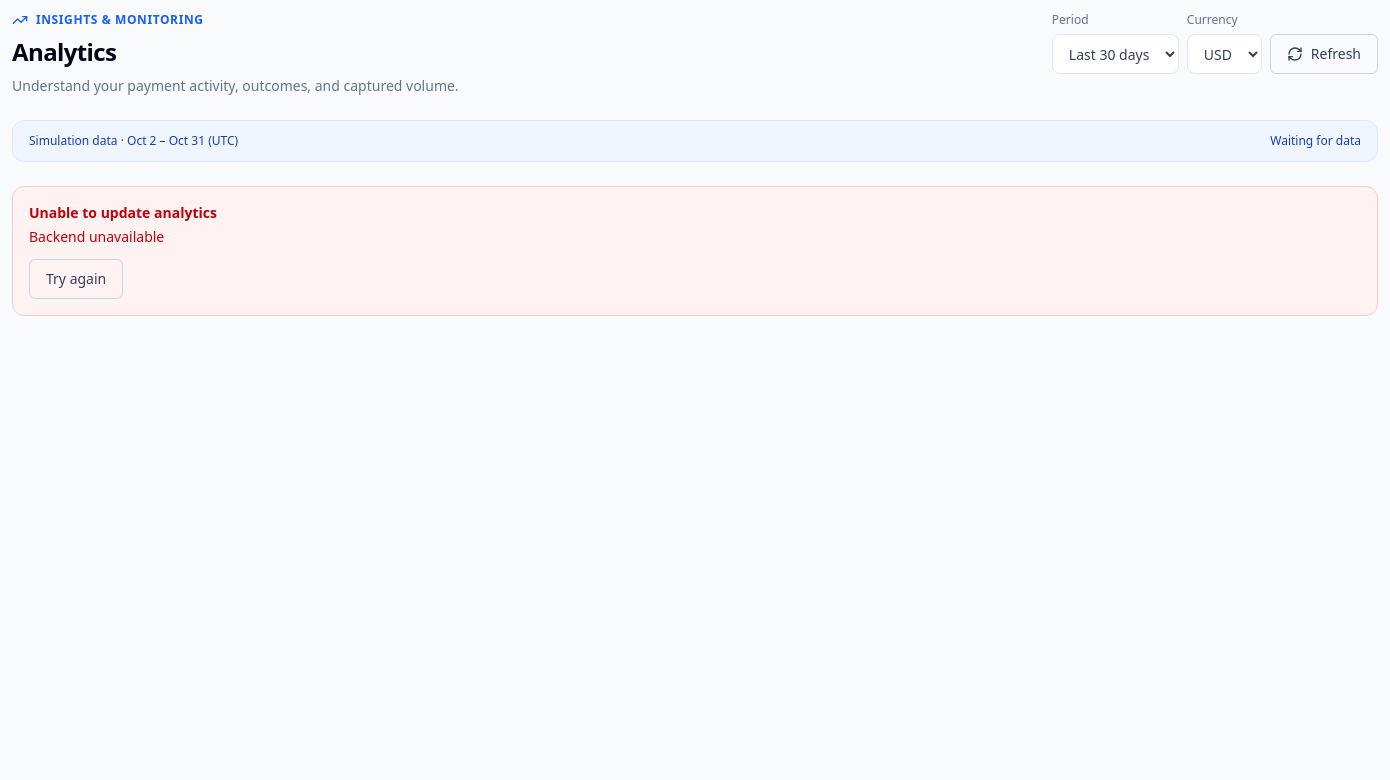
Test: Analytics page › offers retry after an error and an actionable empty state
Expected: the message shows "Backend unavailable", top-left (29, 227), bottom-right (164, 246)
Expected: the text "Gross captured" is not shown
Click the button "Try again" at (76, 279), box top-left (29, 259), bottom-right (123, 299)
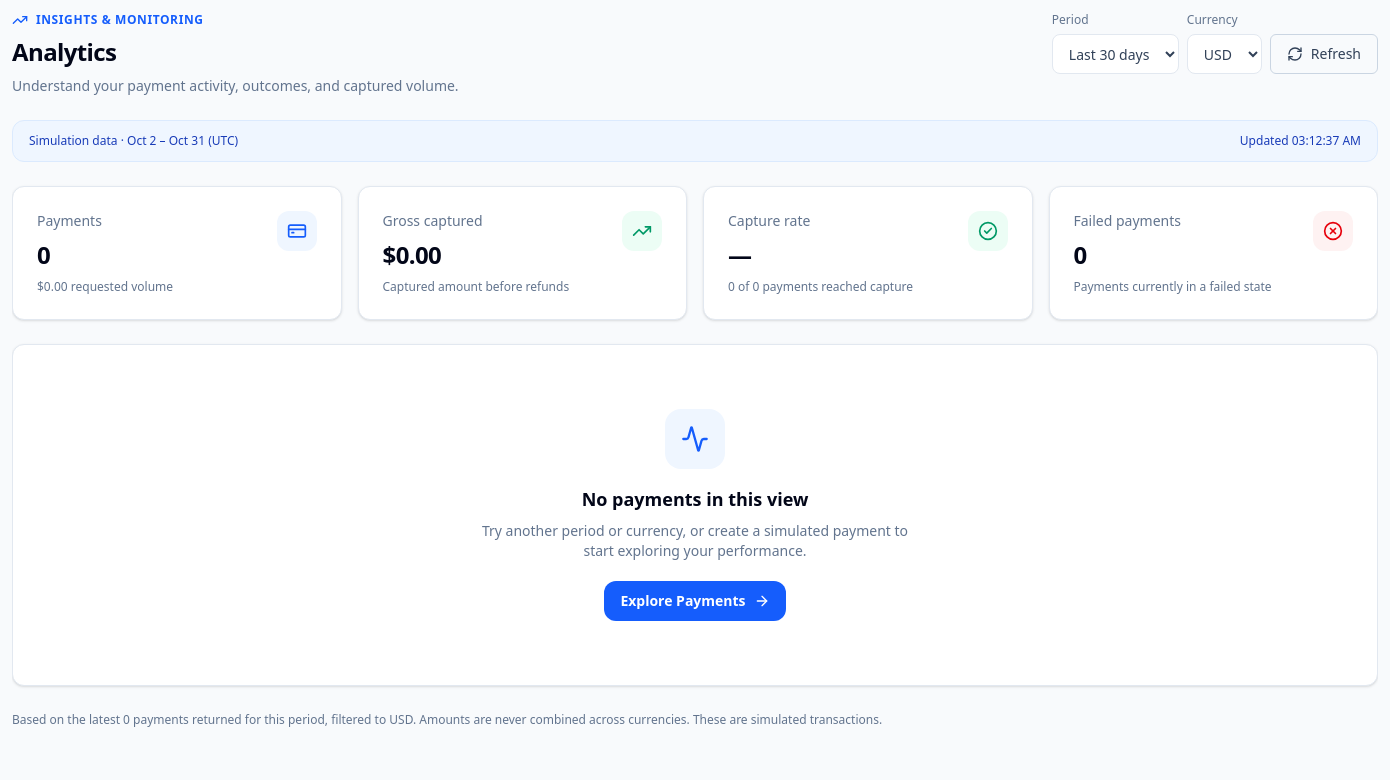
Expected: the heading "No payments in this view" is shown, top-left (582, 485), bottom-right (808, 513)
